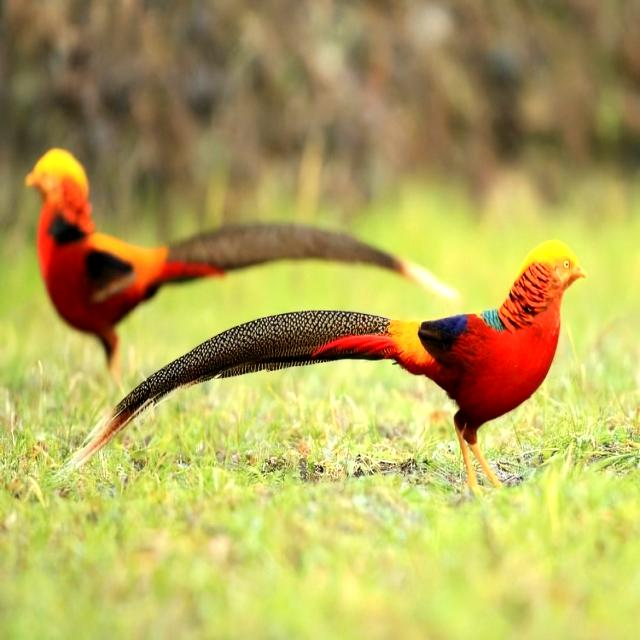Chrysolophus pictus feather: (68, 311, 390, 467), (169, 223, 455, 296)
